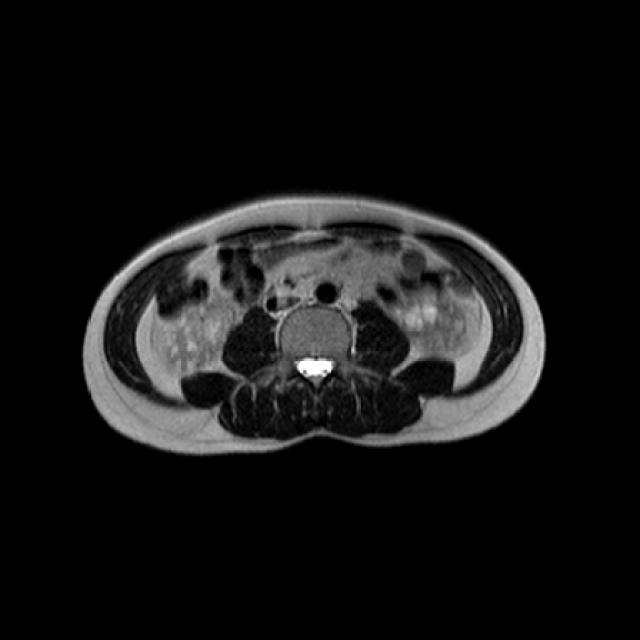sag: (154, 303, 231, 373)
sol: (393, 295, 466, 342)
